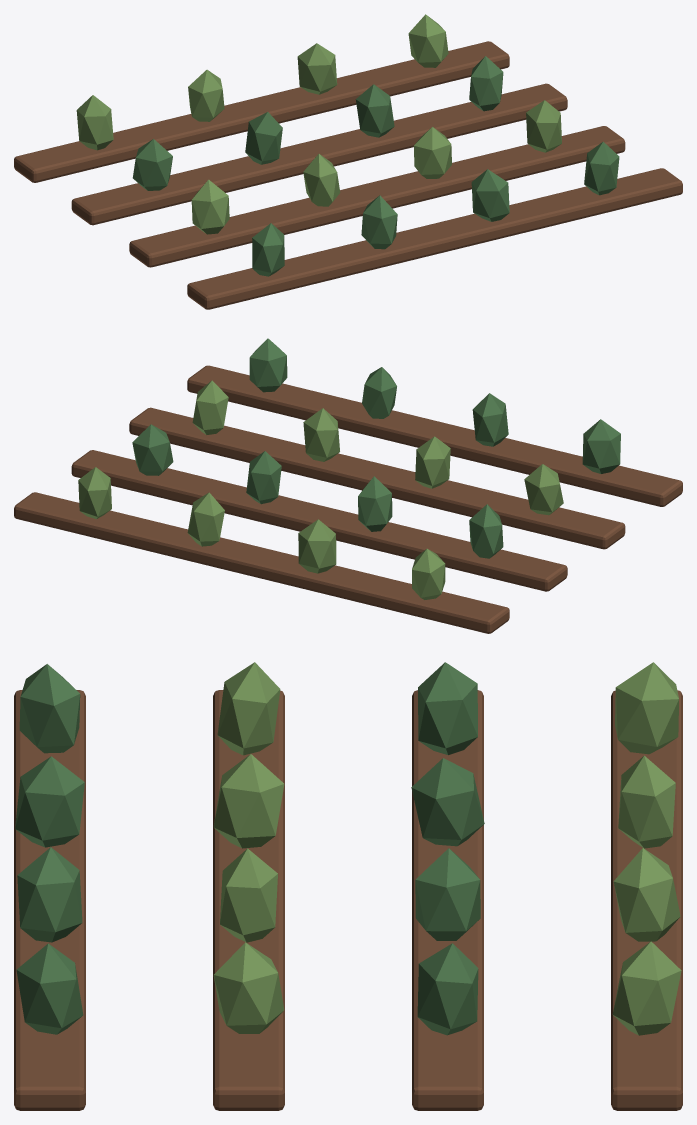
The model's file is fertile.glb.
3 views of the same model, one above another, from view 1: azimuth 30°, elevation 25°; view 2: azimuth 150°, elevation 25°; view 3: azimuth 270°, elevation 25° (orthographic). The views are drawn at different scales.
Parts seen in each view (by area): view 1: fertile · soil, fertile · leaf_light, fertile · leaf; view 2: fertile · soil, fertile · leaf, fertile · leaf_light; view 3: fertile · soil, fertile · leaf, fertile · leaf_light.
Boxes of the visible parts, box(x1,y1,x2,y2) form: fertile · soil: box(14, 41, 682, 309); fertile · leaf_light: box(76, 14, 561, 234); fertile · leaf: box(132, 56, 619, 276); fertile · soil: box(14, 365, 682, 633); fertile · leaf: box(132, 338, 620, 558); fertile · leaf_light: box(78, 380, 563, 599); fertile · soil: box(14, 690, 682, 1110); fertile · leaf: box(15, 662, 484, 1035); fertile · leaf_light: box(213, 662, 681, 1035).
Bounding box in the file's own units: 0.86 × 0.11 × 0.605.
